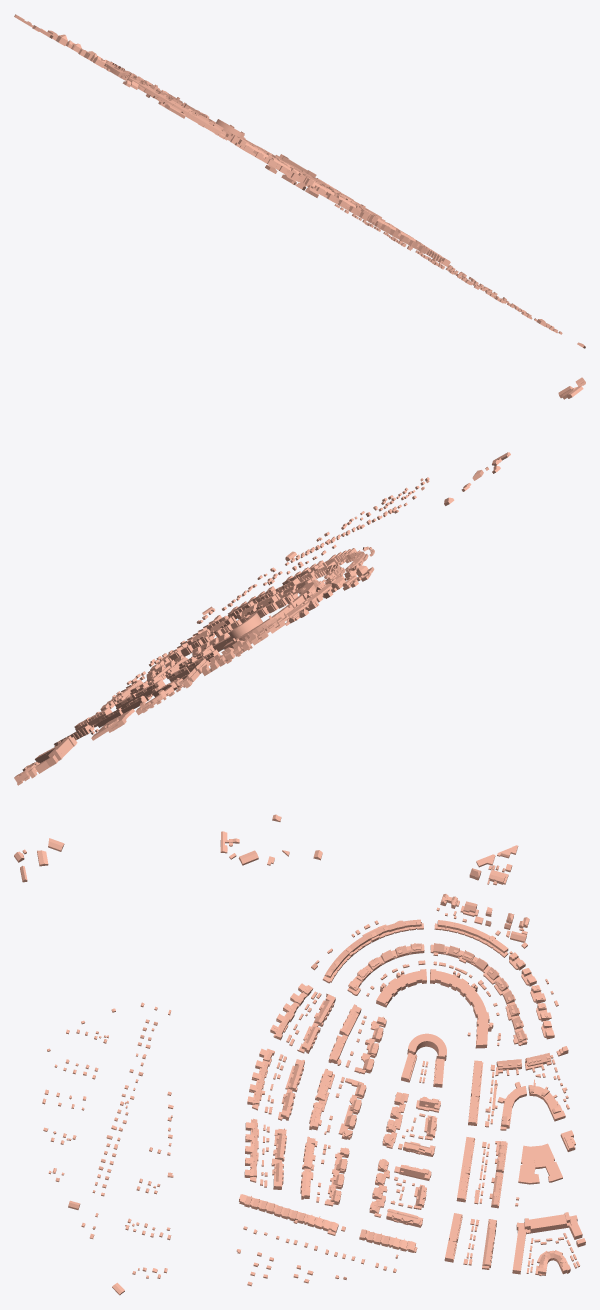
3 renders of one model, top to bottom at view 1: azimuth 30°, elevation 25°; view 2: azimuth 150°, elevation 25°; view 3: azimuth 270°, elevation 25°, orthographic.
Bounding box in the file's own units: 490 × 371 × 644.
